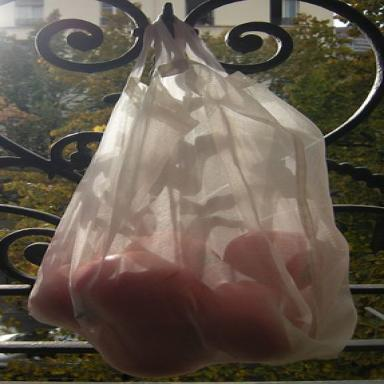plasticbag: (27, 15, 358, 377)
